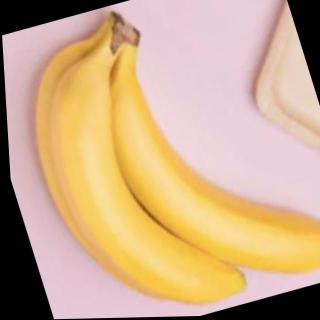banana: (83, 28, 320, 317), (20, 38, 248, 320)
